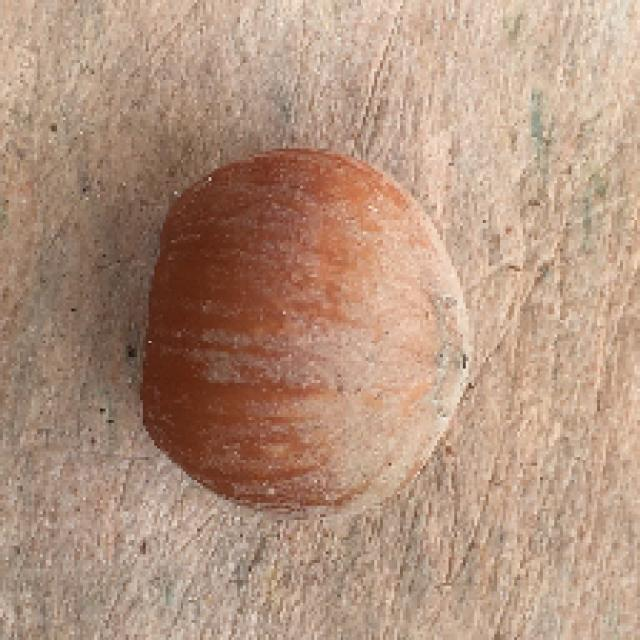QualityHazelnut: (138, 150, 472, 533)
